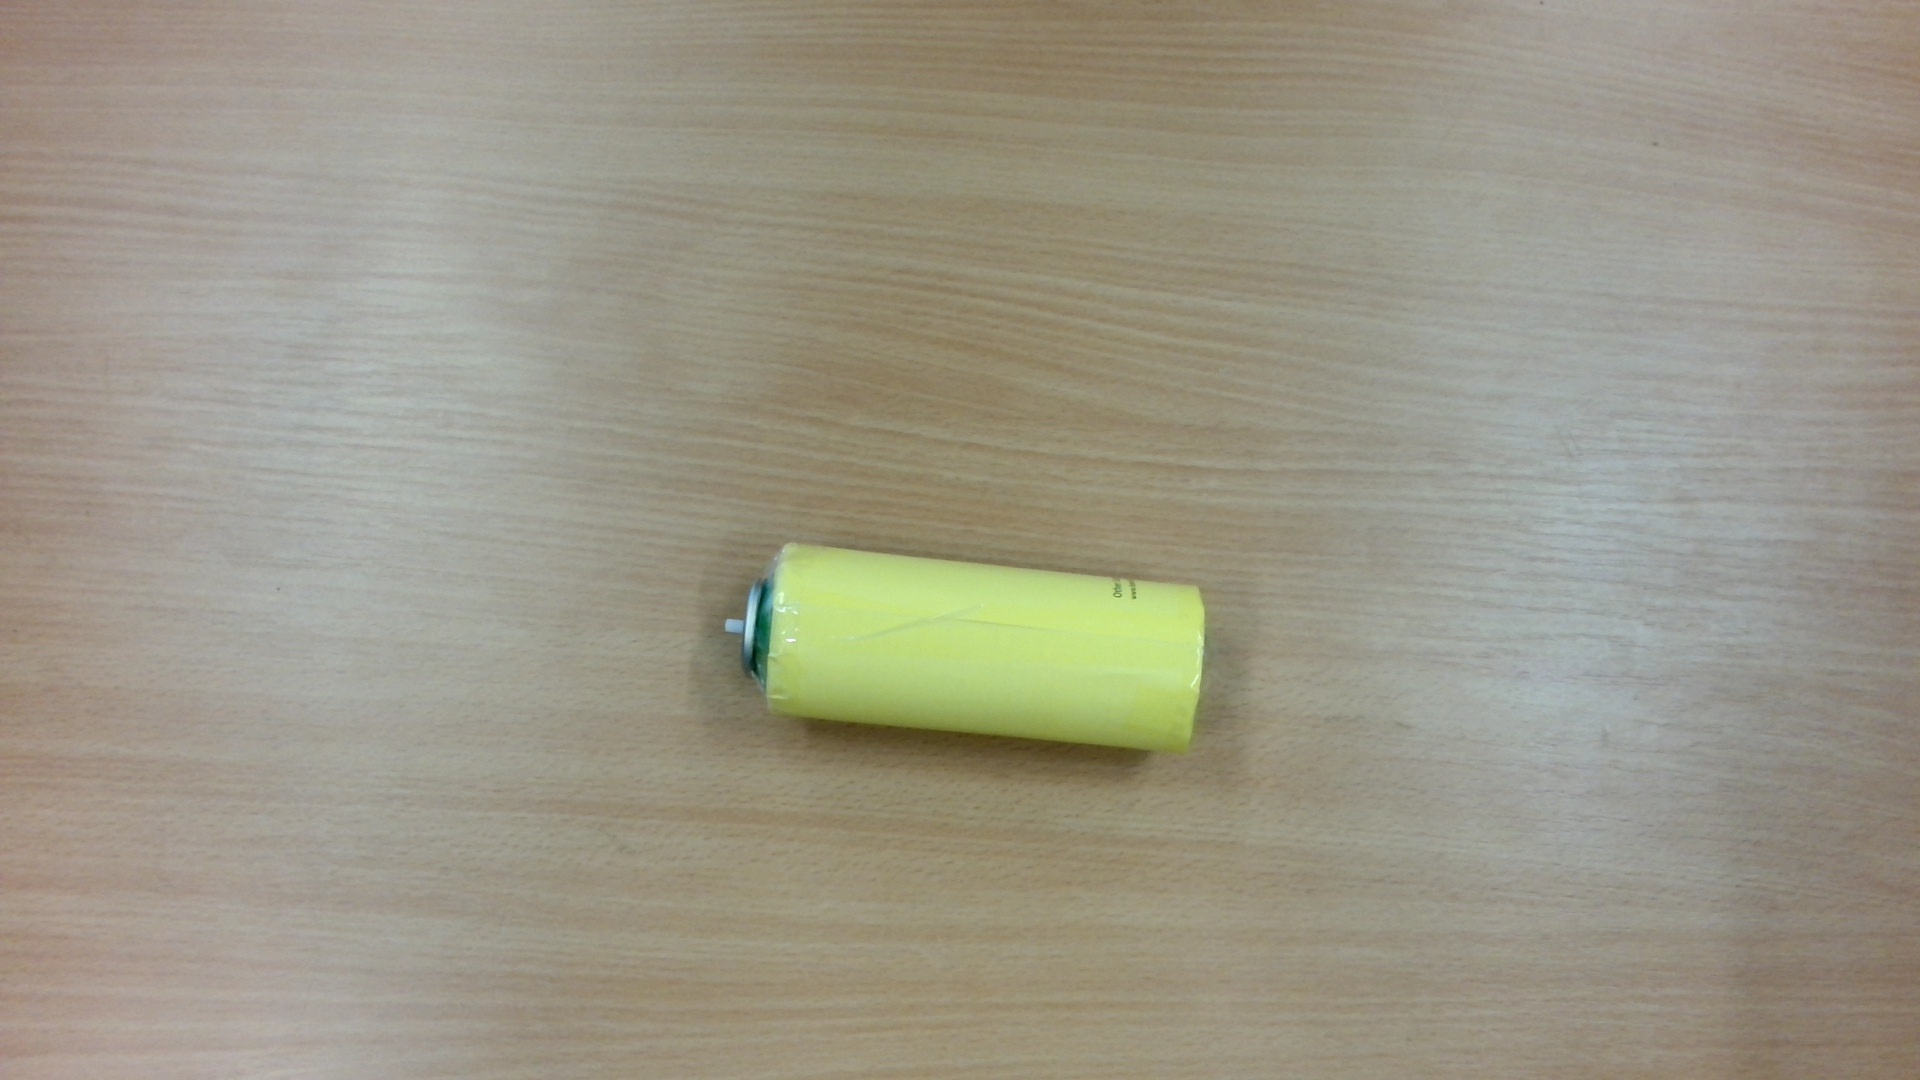Cylinder: (709, 530, 1244, 770)
